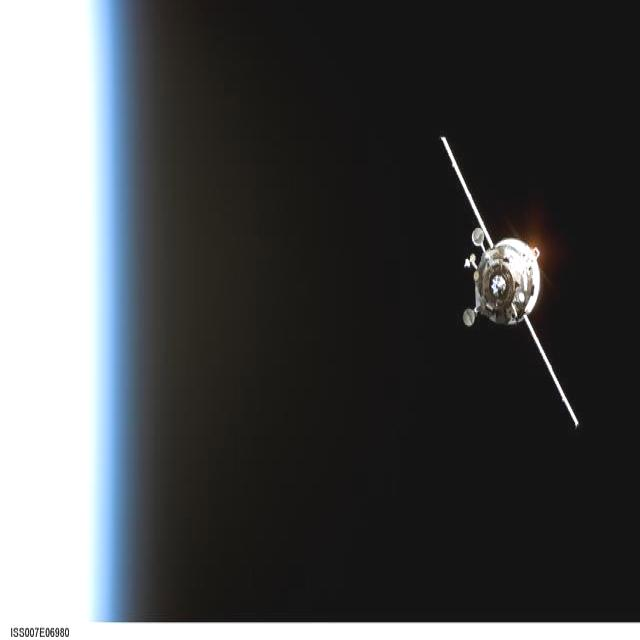medium_debris: (442, 136, 578, 424)
